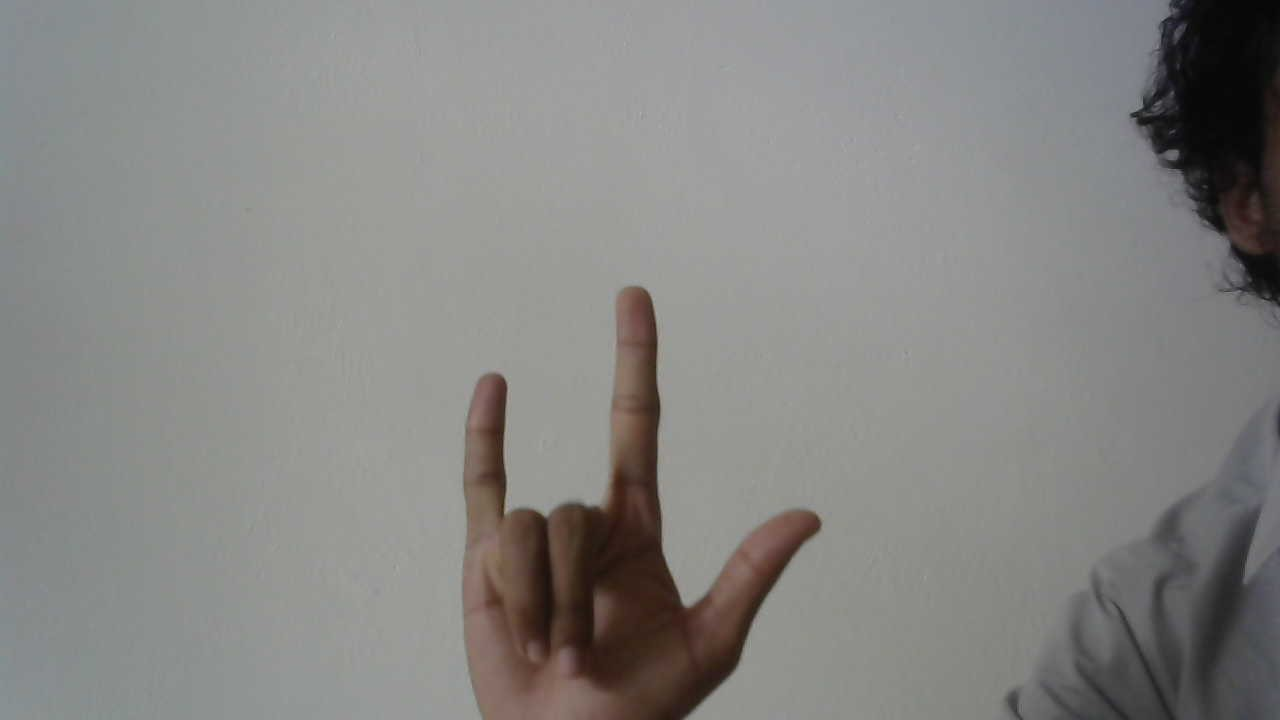iloveyou: (449, 279, 824, 720)
